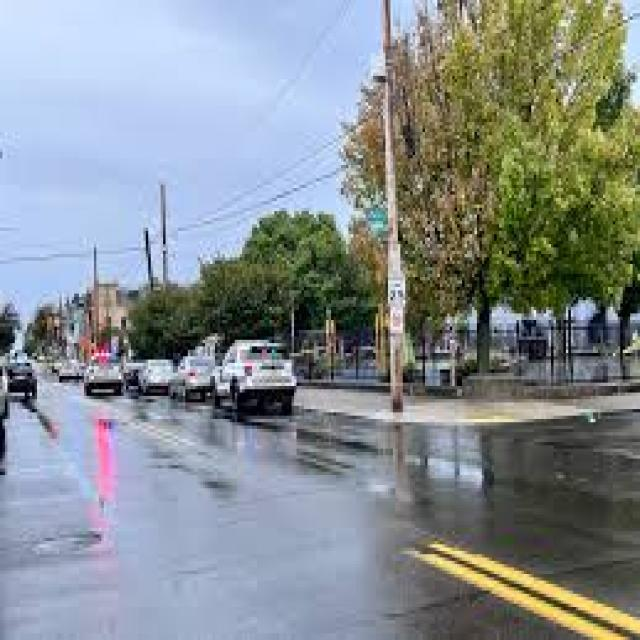speedLimit25: (388, 274, 408, 307)
